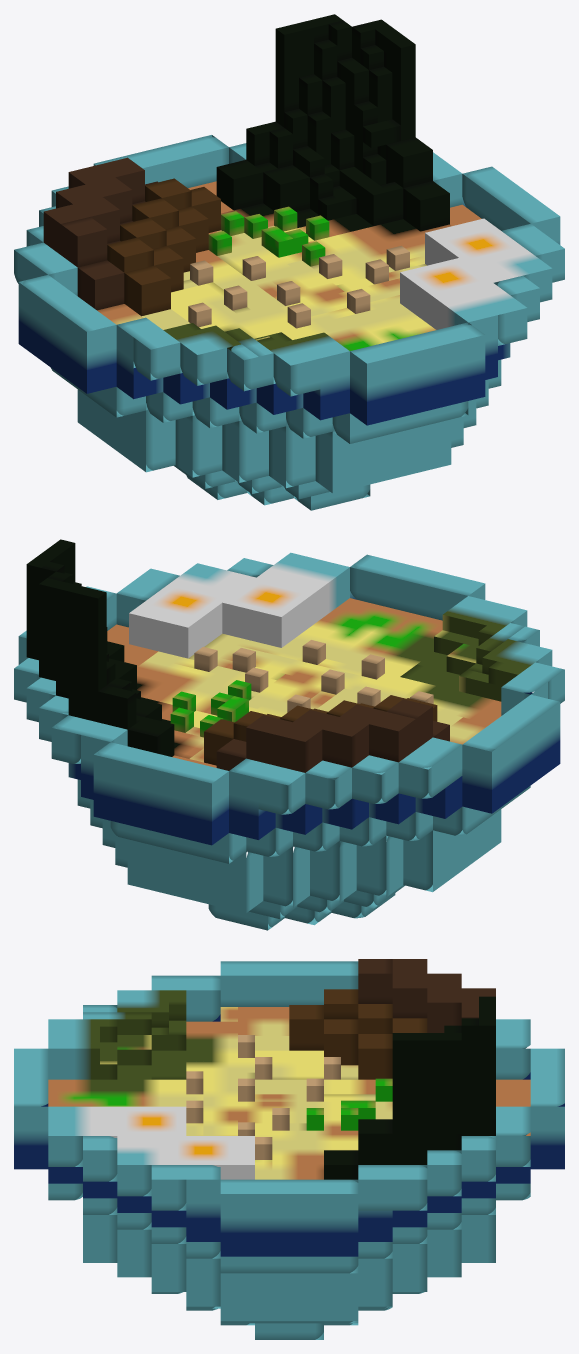
The model's file is Ramen.dae.
The picture shows the model from 3 angles, top to bottom: view 1: azimuth 30°, elevation 25°; view 2: azimuth 150°, elevation 25°; view 3: azimuth 270°, elevation 25°; orthographic projection.
Visible parts, largest first — view 1: Breakfastcereals; view 2: Breakfastcereals; view 3: Breakfastcereals.
Part boxes in pixels (x1,y1,x2,y2): Breakfastcereals: [14, 14, 564, 510]; Breakfastcereals: [14, 539, 564, 930]; Breakfastcereals: [14, 959, 564, 1339].
Bounding box in the file's own units: 32 × 22 × 32.
Materials: 1 (1 with a texture image).
